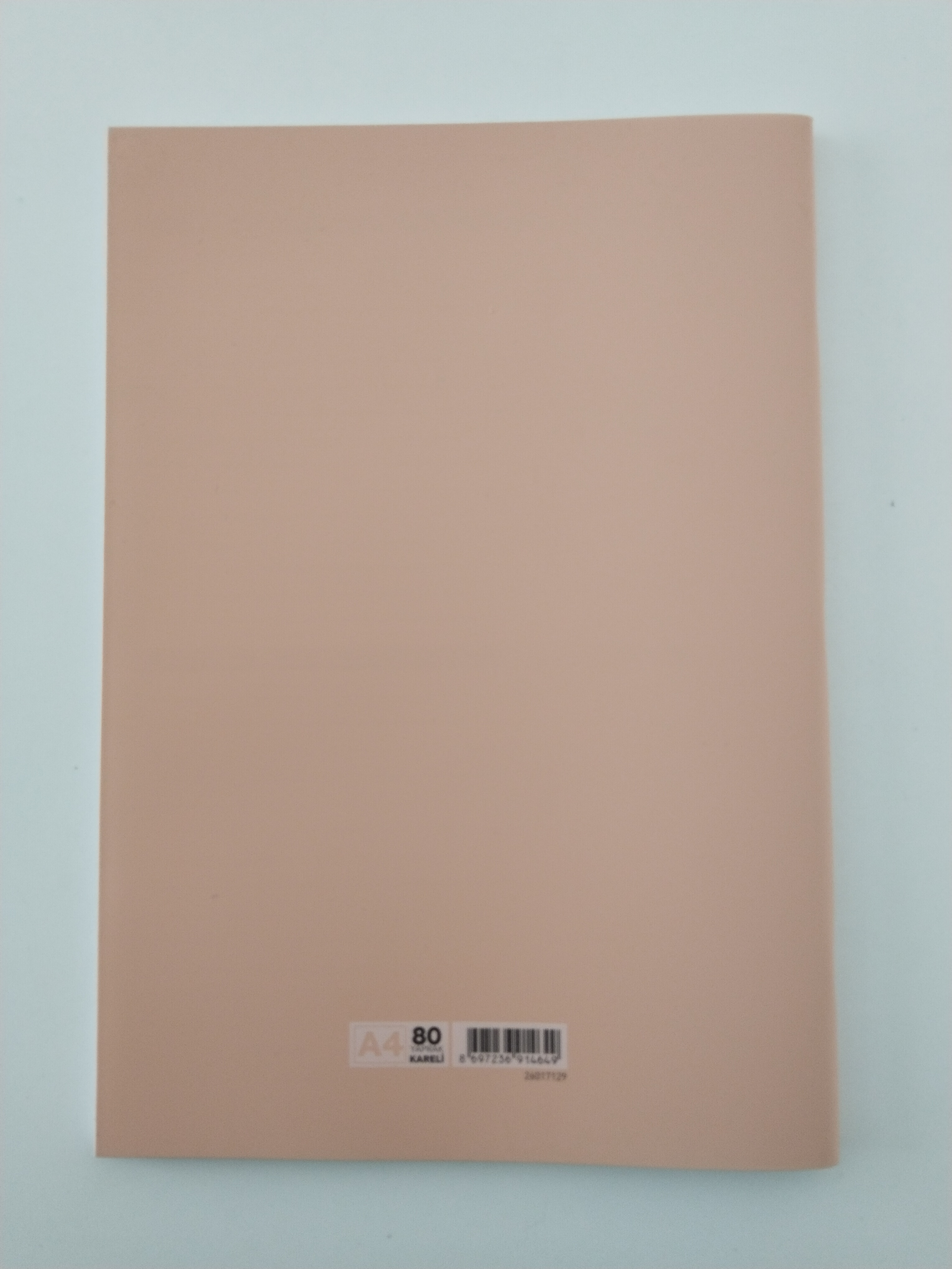80_sayfa_gipta_defter: (102, 122, 827, 1181)
